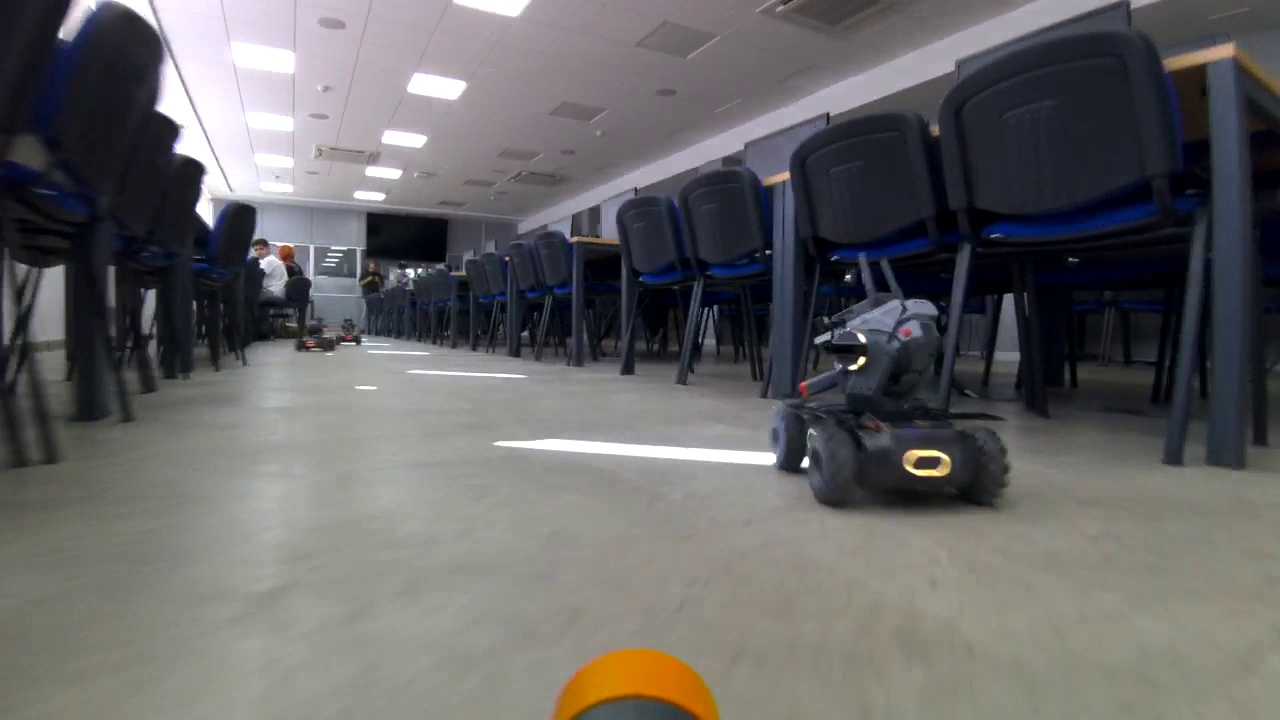robot: (768, 287, 1011, 511)
